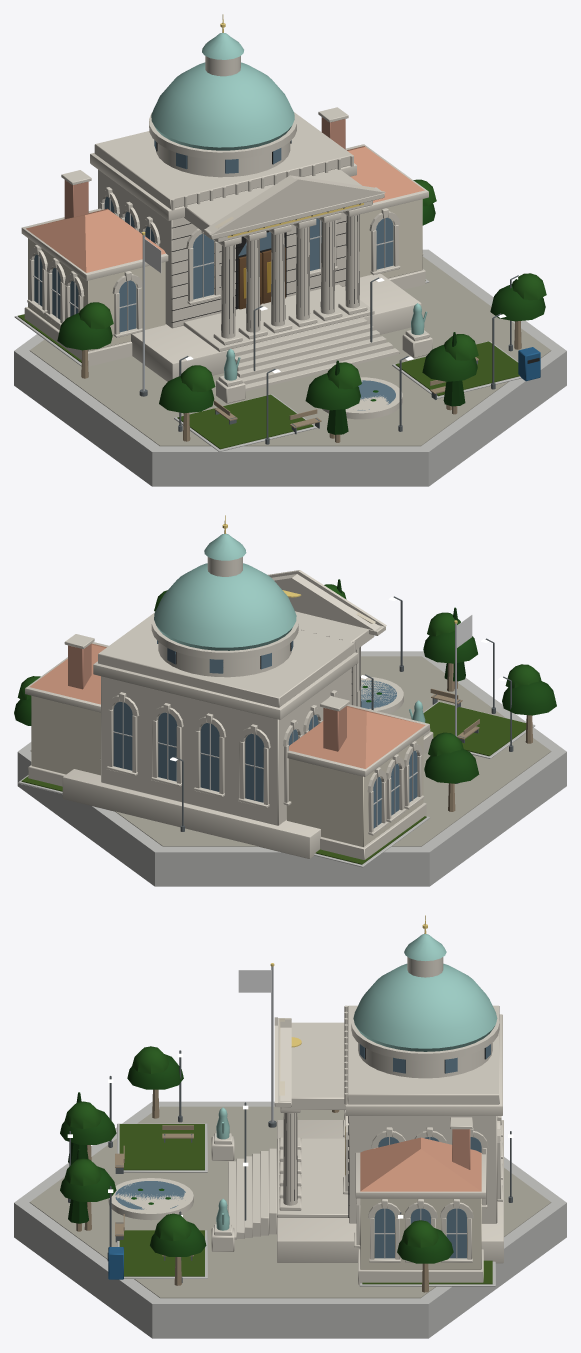
The model's file is library_med.glb.
3 renders of one model, top to bottom at view 1: azimuth 30°, elevation 25°; view 2: azimuth 150°, elevation 25°; view 3: azimuth 270°, elevation 25°, orthographic.
Visible parts, largest first — view 1: stone, wall_concrete, pavers, leaf, copper, roof_tile, glass, turf, dark, wood, steel_dark, brick (+2 smaller); view 2: stone, wall_concrete, pavers, copper, glass, leaf, roof_tile, turf, brick, wood, steel_dark; view 3: stone, wall_concrete, pavers, copper, leaf, turf, roof_tile, glass, wood, steel_dark, banner, brick (+2 smaller).
Part boxes in pixels (x1,y1,x2,y2): stone: (21, 56, 432, 419); wall_concrete: (14, 198, 566, 486); pavers: (29, 256, 551, 446); leaf: (57, 179, 546, 434); copper: (151, 33, 427, 380); roof_tile: (26, 146, 424, 272); glass: (34, 140, 395, 410); turf: (18, 280, 519, 449); dark: (156, 141, 539, 363); wood: (81, 247, 521, 442); steel_dark: (139, 275, 518, 444); brick: (64, 117, 345, 218); stone: (25, 557, 433, 859); wall_concrete: (17, 651, 566, 886); pavers: (115, 656, 551, 846); copper: (154, 533, 425, 722); glass: (113, 640, 417, 828); leaf: (14, 579, 556, 783); roof_tile: (29, 643, 425, 768); turf: (21, 702, 526, 864); brick: (68, 643, 346, 751); wood: (430, 663, 532, 811); steel_dark: (175, 596, 513, 831); stone: (108, 957, 503, 1284); wall_concrete: (14, 1101, 566, 1338); pavers: (29, 1106, 551, 1298); copper: (216, 934, 497, 1230); leaf: (60, 1046, 453, 1263); turf: (119, 1124, 492, 1284); roof_tile: (360, 1137, 481, 1191); glass: (115, 1044, 490, 1258); wood: (76, 1089, 428, 1292); steel_dark: (68, 1050, 512, 1282); banner: (238, 970, 271, 992); brick: (452, 1129, 470, 1169).
Bounding box in the file's own units: 21.41 × 15.8 × 24.6.
